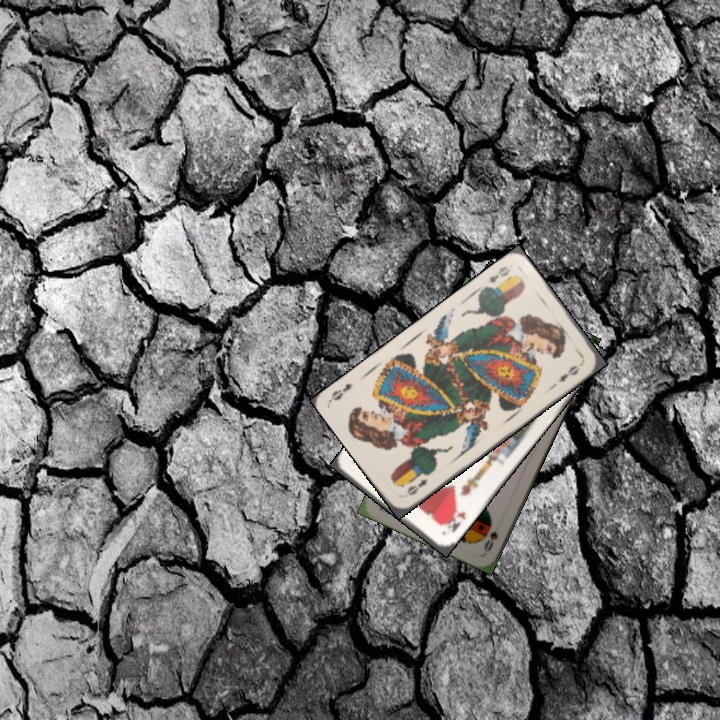EO: (482, 262, 512, 286), (402, 475, 430, 498)
HK: (441, 506, 468, 535)
SO: (480, 527, 501, 554)
